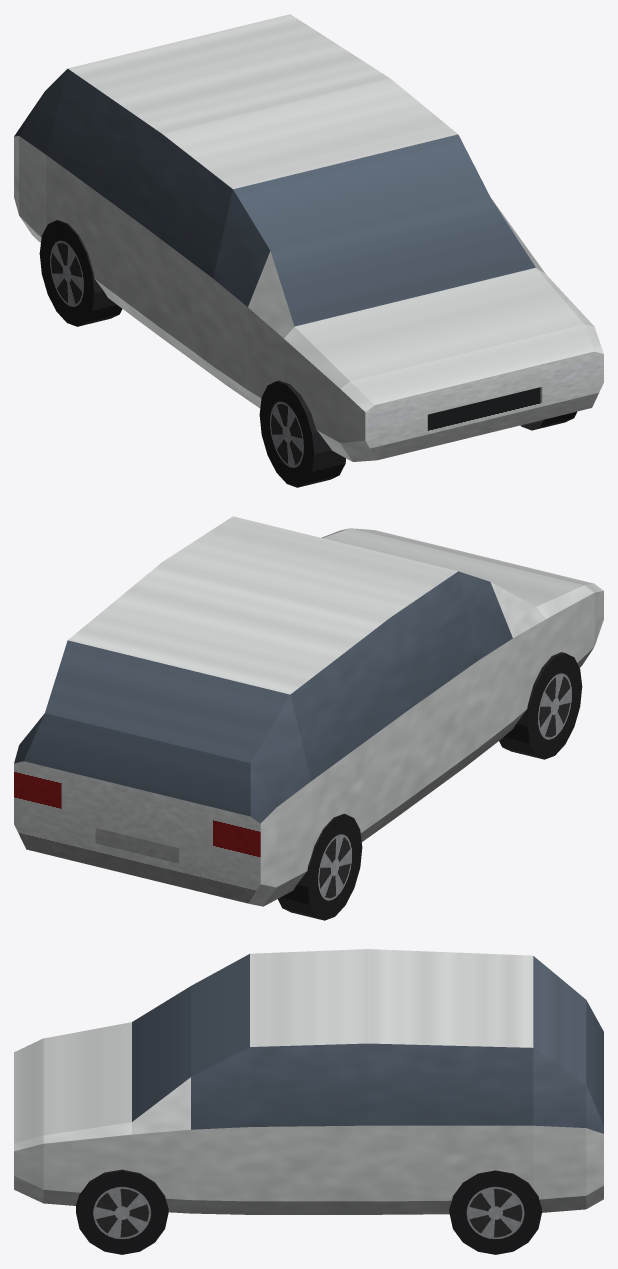
The model's file is SM_Morin_Auto_A.fbx.
3 renders of one model, top to bottom at view 1: azimuth 30°, elevation 25°; view 2: azimuth 150°, elevation 25°; view 3: azimuth 270°, elevation 25°, orthographic. The views are drawn at different scales.
Visible parts, largest first — view 1: SM_Morin_Auto_A; view 2: SM_Morin_Auto_A; view 3: SM_Morin_Auto_A.
Boxes of the visible parts, <box> form: SM_Morin_Auto_A: <box>14,14,603,487</box>; SM_Morin_Auto_A: <box>14,516,603,920</box>; SM_Morin_Auto_A: <box>14,949,603,1254</box>.
Size of the model in its own units: 176 by 395 by 150.
Materials: 1 (1 with a texture image).
